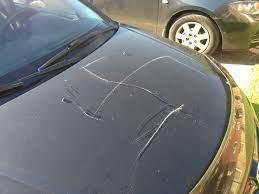bonnet-dent: (41, 41, 231, 183)
